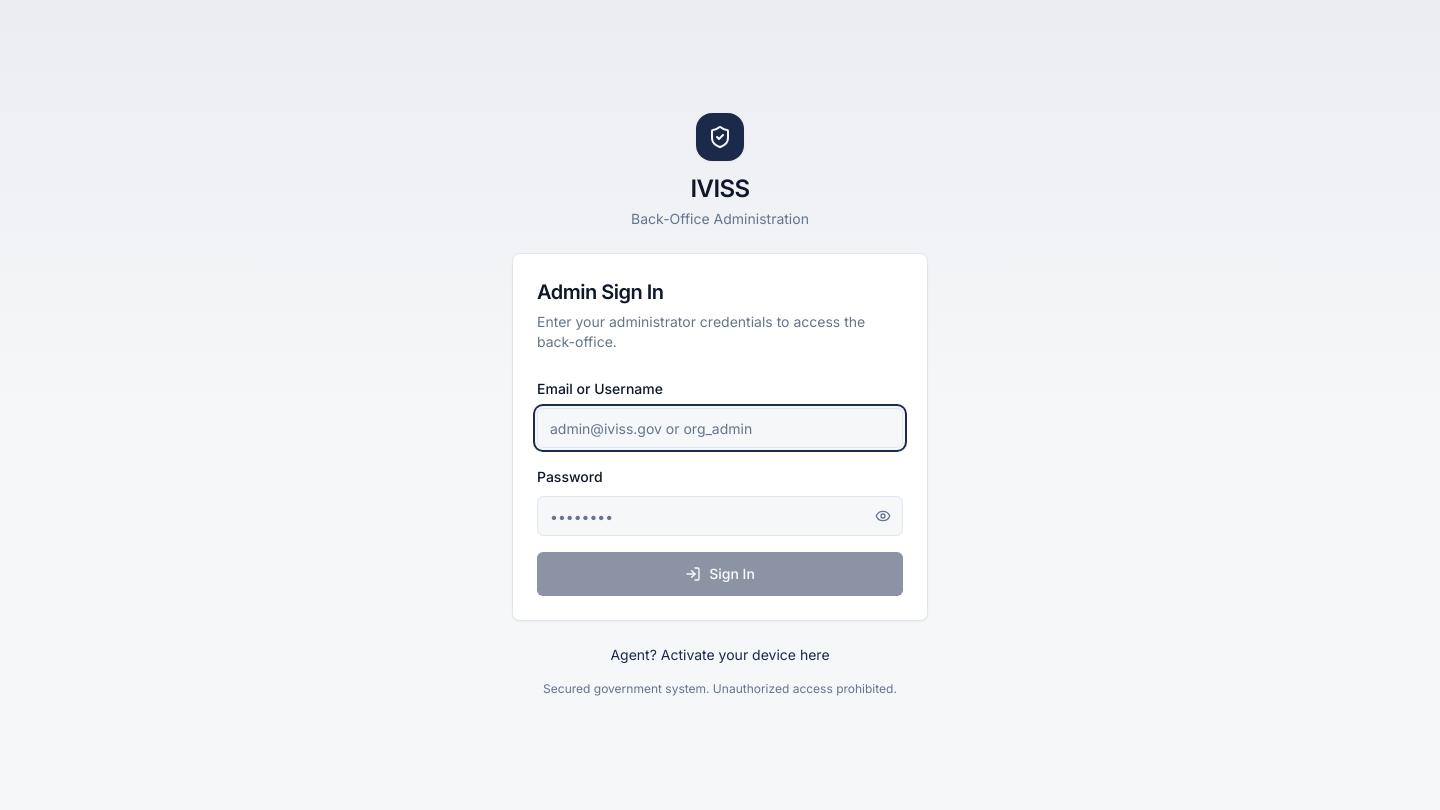
Test case: AdminLogin › shows error if login fails
Type "admin@iviss.gov" into the field labelled "Email or Username".
click(720, 428); type("admin@iviss.gov")  # box x1=537 y1=408 x2=903 y2=448
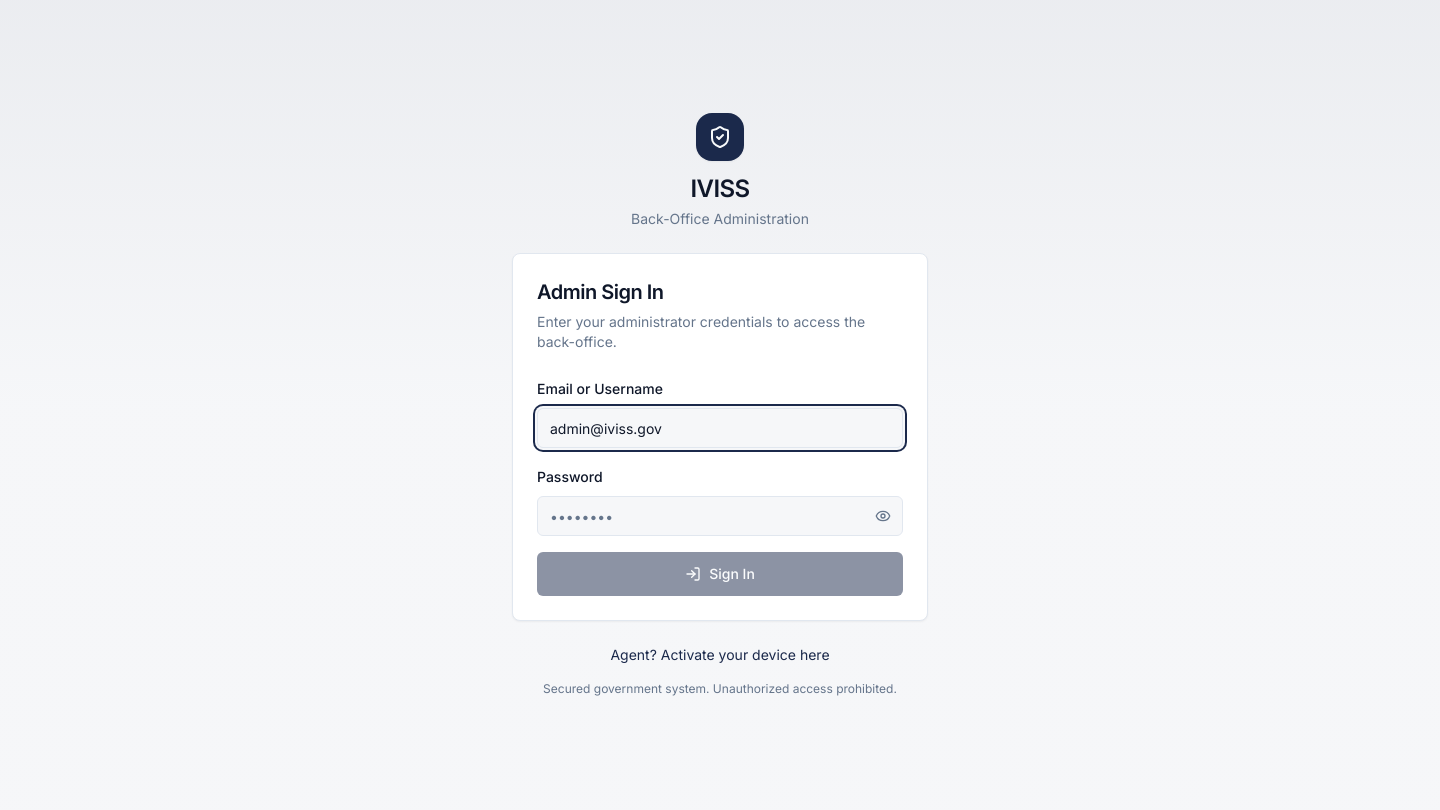
Type "wrong" into the password field labelled "Password".
click(720, 516); type("wrong")  # box x1=537 y1=496 x2=903 y2=536
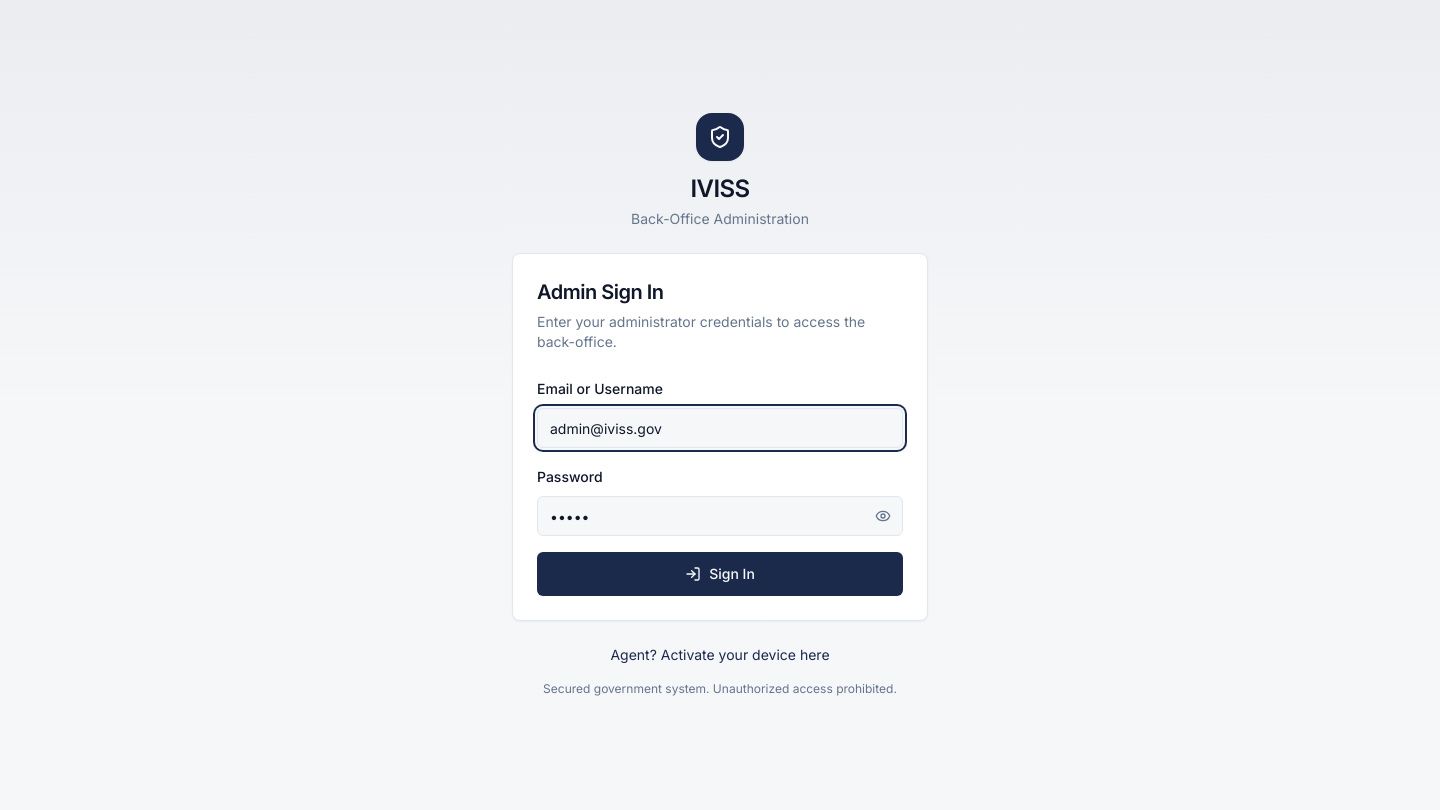
Click the button "Sign In".
click(720, 574)  # box x1=537 y1=552 x2=903 y2=596
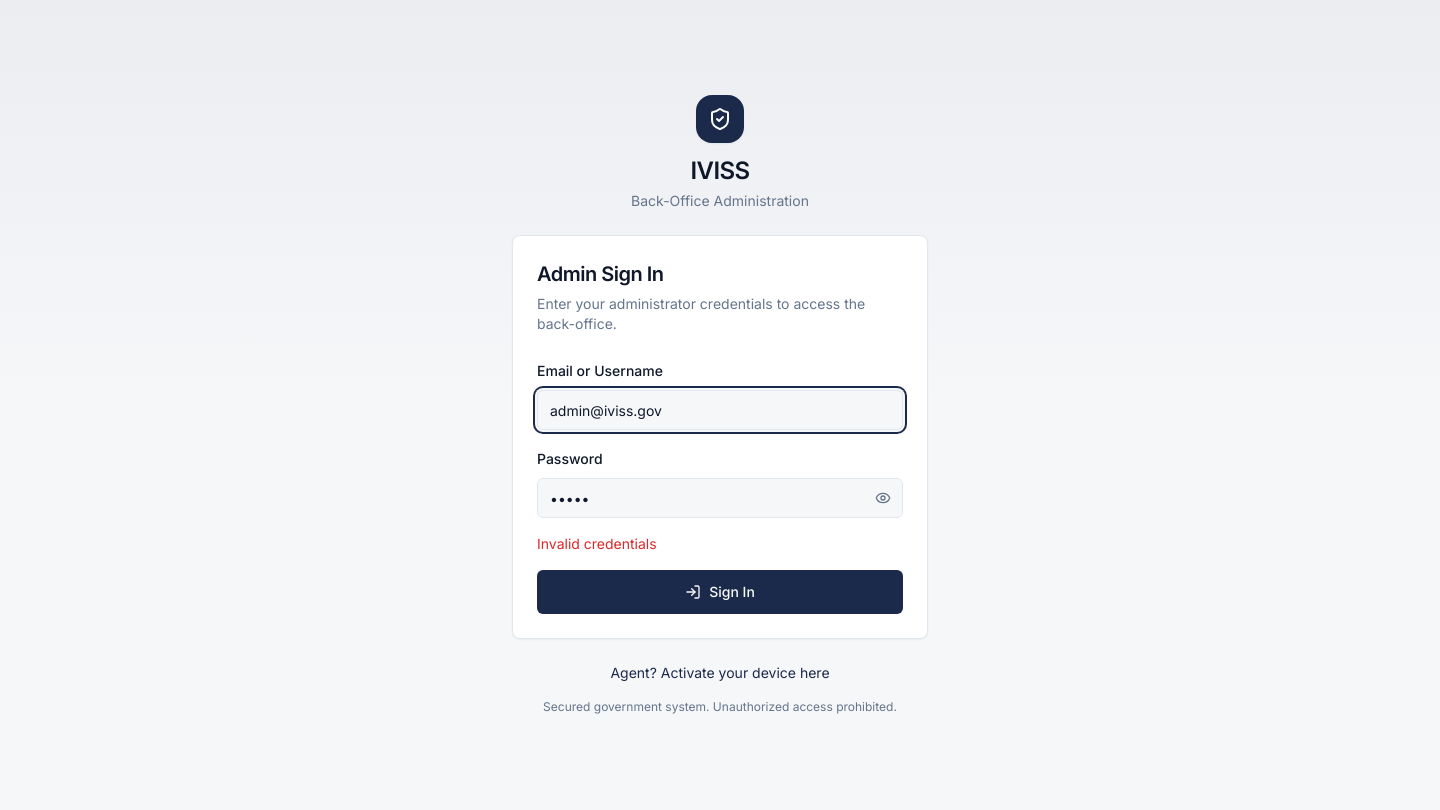
Result: the text "Invalid credentials" is shown at x1=537 y1=535 x2=657 y2=552
